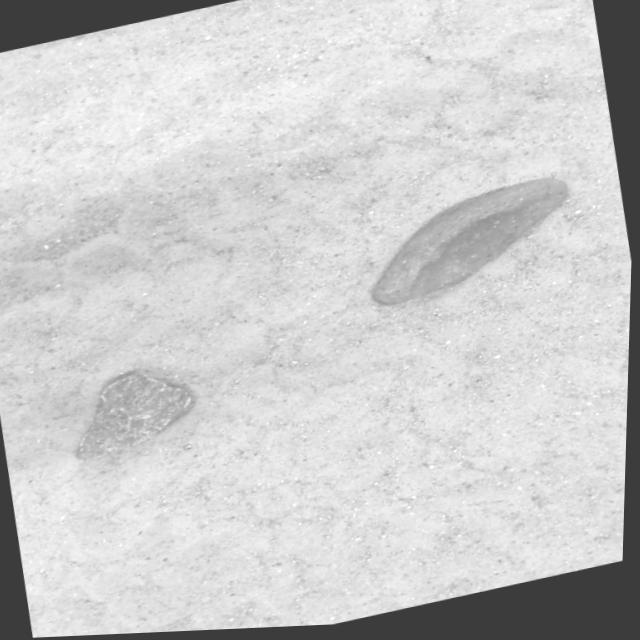rock: (375, 182, 568, 307), (80, 374, 194, 459)
